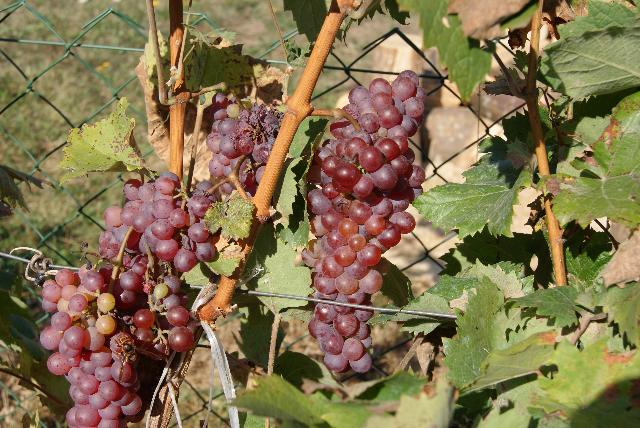grapes: (301, 70, 426, 372), (40, 266, 168, 428), (105, 172, 215, 271), (206, 92, 284, 199)
